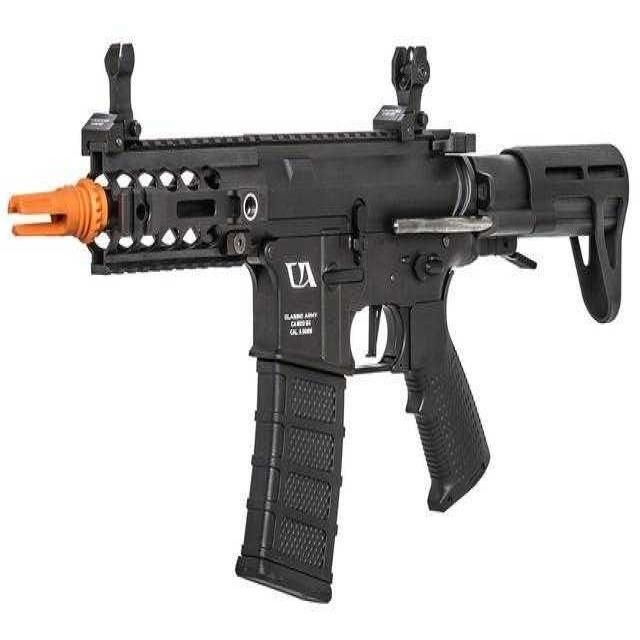weapon: (9, 18, 634, 592)
